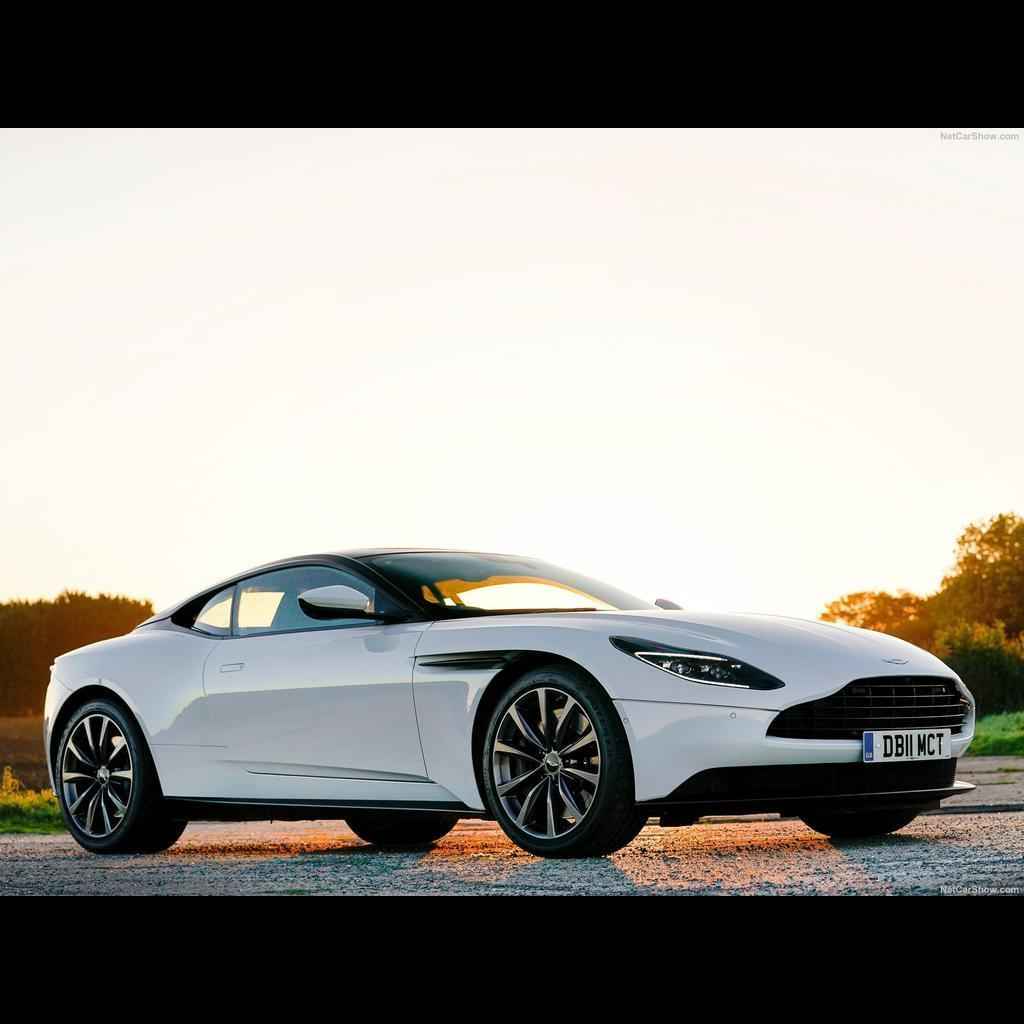aero: (630, 749, 975, 812), (411, 651, 525, 670)
bodysurface: (152, 631, 468, 807)
coupe: (43, 549, 976, 859)
dlo: (180, 564, 412, 637)
fender: (451, 615, 670, 705), (45, 628, 209, 720)
frontbumper: (587, 670, 976, 817)
grill: (765, 675, 975, 742)
headlamp: (608, 634, 787, 691)
hood: (430, 609, 976, 698)
mirror: (297, 585, 413, 623)
opening: (169, 589, 216, 632)
rocker: (148, 752, 495, 820)
wheel: (490, 686, 600, 840), (61, 713, 133, 838)
